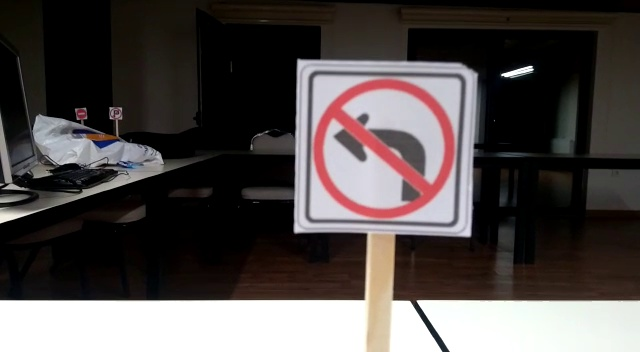sola_donulmez: (295, 67, 479, 226)
